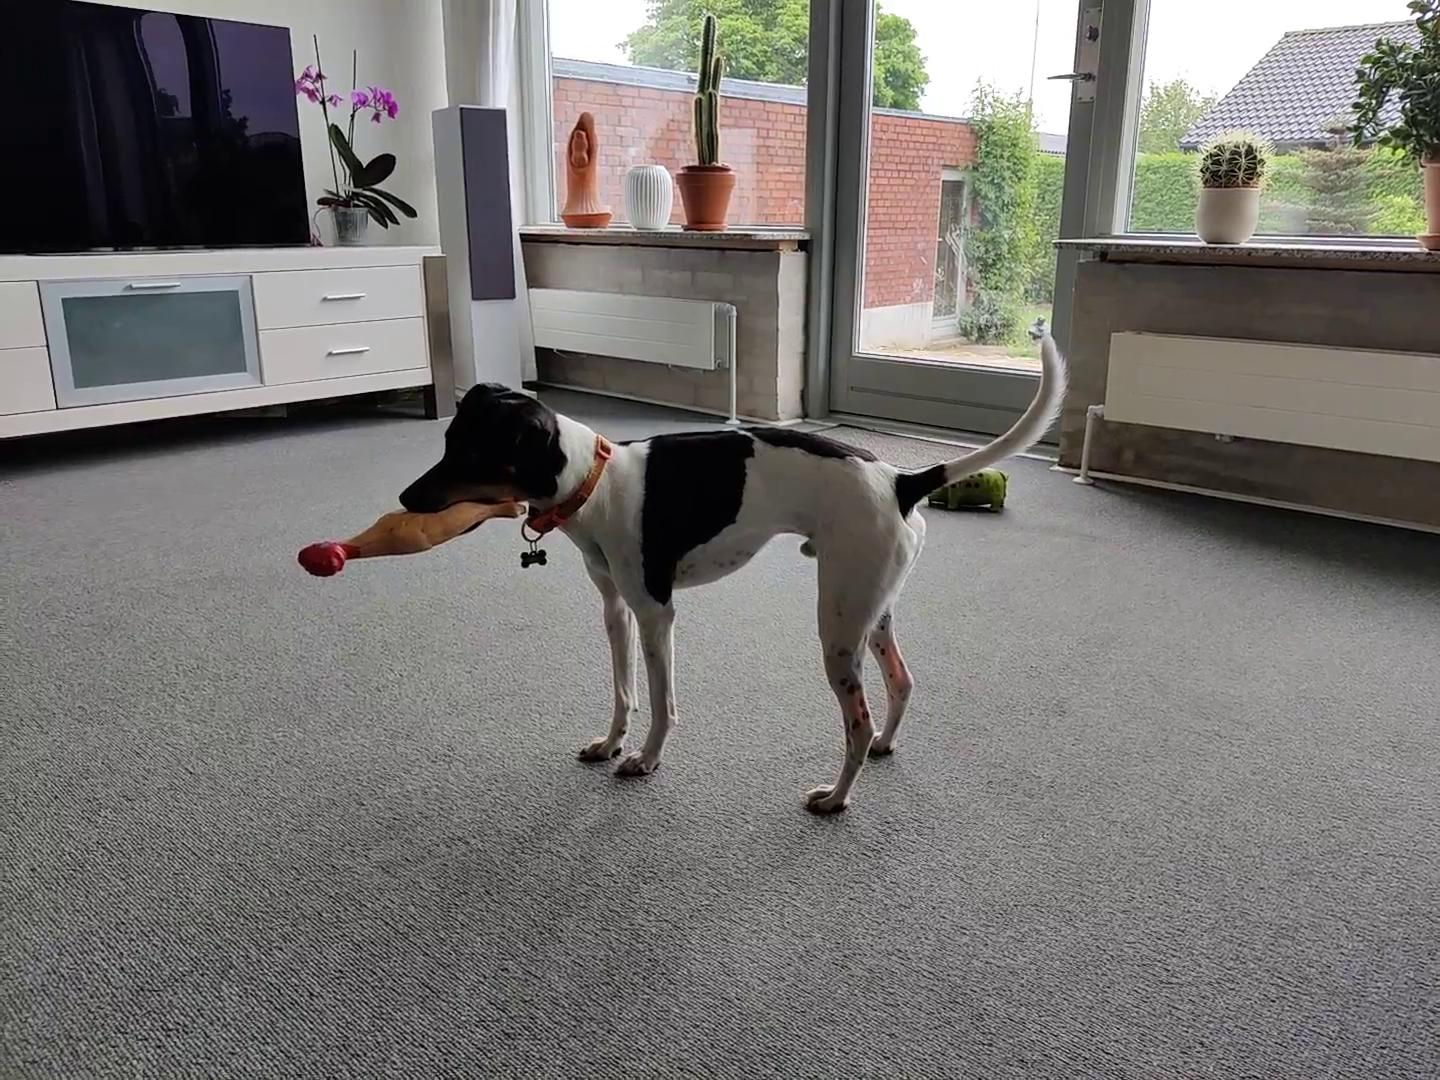Dog: (392, 327, 1071, 822)
